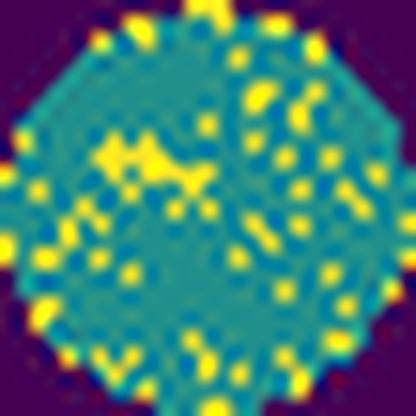Scratch: (85, 126, 227, 226)
